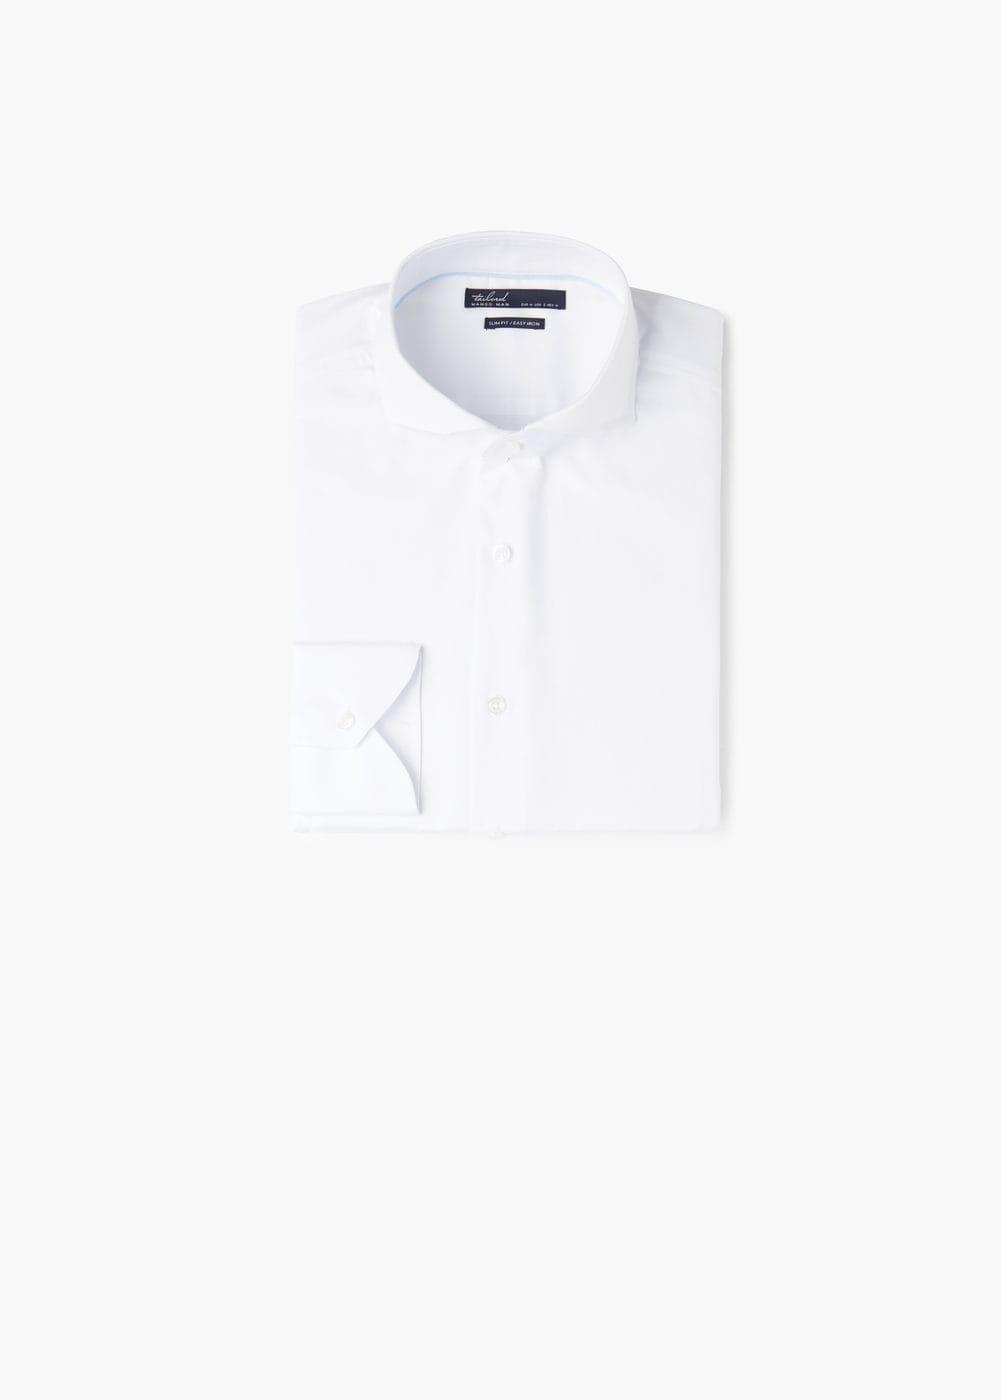teeshirt: (270, 221, 755, 869)
